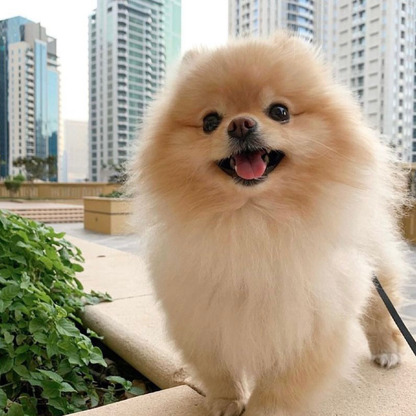Pomeranian: (145, 40, 407, 407)
